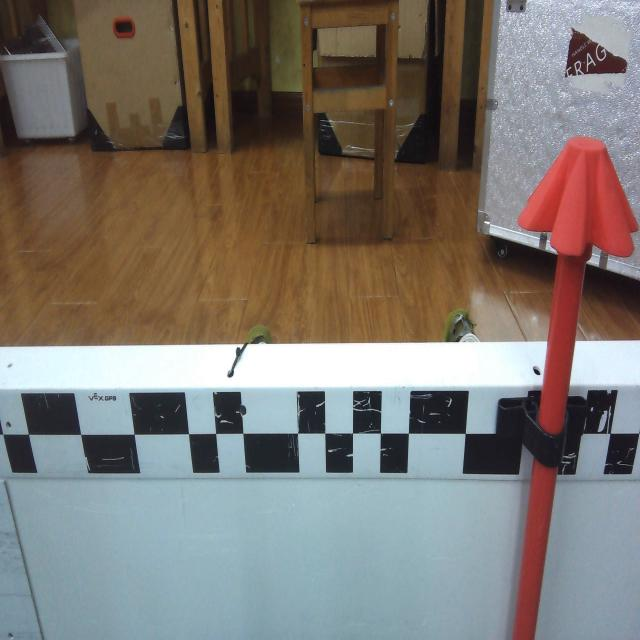zred-Stake-Head: (517, 136, 639, 258)
